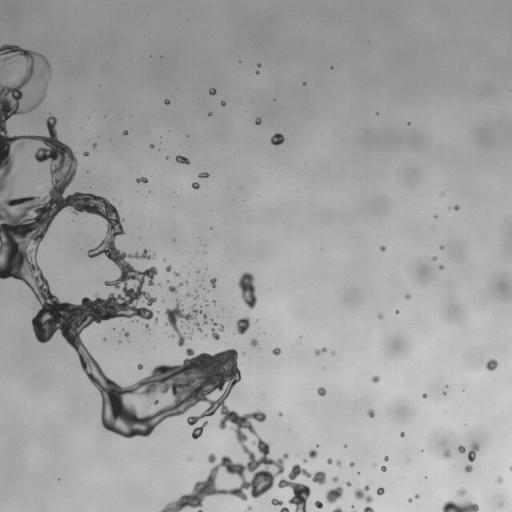droplet: (164, 298, 207, 346), (354, 485, 374, 511), (210, 319, 224, 340), (325, 486, 342, 503), (236, 317, 250, 334), (270, 133, 284, 145), (168, 282, 182, 293), (486, 359, 497, 371), (175, 155, 189, 164), (314, 347, 326, 355), (317, 387, 326, 396), (308, 449, 317, 458), (367, 408, 375, 417), (457, 487, 465, 496), (208, 453, 215, 463), (136, 177, 147, 183), (250, 338, 258, 346), (371, 375, 379, 383), (376, 487, 384, 495), (210, 278, 217, 287), (272, 348, 281, 355), (443, 449, 450, 458), (458, 445, 465, 453), (464, 465, 472, 472), (314, 501, 322, 508), (198, 172, 209, 177), (209, 88, 216, 95), (192, 182, 199, 189), (255, 117, 261, 124), (165, 265, 171, 271), (496, 476, 502, 482), (380, 245, 385, 251), (438, 265, 444, 270), (124, 331, 129, 337), (327, 458, 332, 464), (336, 460, 341, 466), (332, 476, 338, 481), (164, 99, 169, 104), (83, 151, 88, 156), (454, 205, 459, 210), (137, 364, 142, 369), (422, 393, 427, 398), (381, 466, 386, 471), (145, 323, 149, 329), (221, 101, 225, 106), (123, 130, 127, 135), (92, 143, 96, 148), (174, 272, 179, 276), (405, 294, 410, 298), (378, 314, 382, 319), (384, 456, 388, 461), (349, 462, 354, 466), (346, 482, 351, 486), (432, 256, 436, 260), (278, 412, 282, 416), (400, 432, 404, 436), (414, 494, 418, 498), (408, 498, 412, 502), (247, 506, 251, 510), (154, 319, 157, 324), (208, 112, 212, 115), (331, 351, 335, 354), (257, 63, 260, 66), (150, 144, 153, 147), (440, 246, 443, 249), (395, 310, 398, 313), (188, 457, 191, 460), (303, 459, 306, 462), (373, 463, 376, 466), (256, 71, 259, 73), (303, 82, 305, 85), (407, 122, 410, 124), (166, 156, 168, 159), (434, 215, 437, 217), (171, 334, 173, 337), (103, 338, 106, 340), (353, 509, 356, 511), (204, 299, 206, 301), (206, 303, 208, 305), (443, 392, 445, 394), (351, 505, 353, 507)
ligament: (0, 46, 325, 511), (238, 272, 257, 308), (441, 500, 478, 511), (192, 421, 207, 438), (271, 498, 289, 511), (468, 443, 479, 462), (186, 292, 198, 299), (333, 507, 343, 511), (510, 467, 511, 470)
